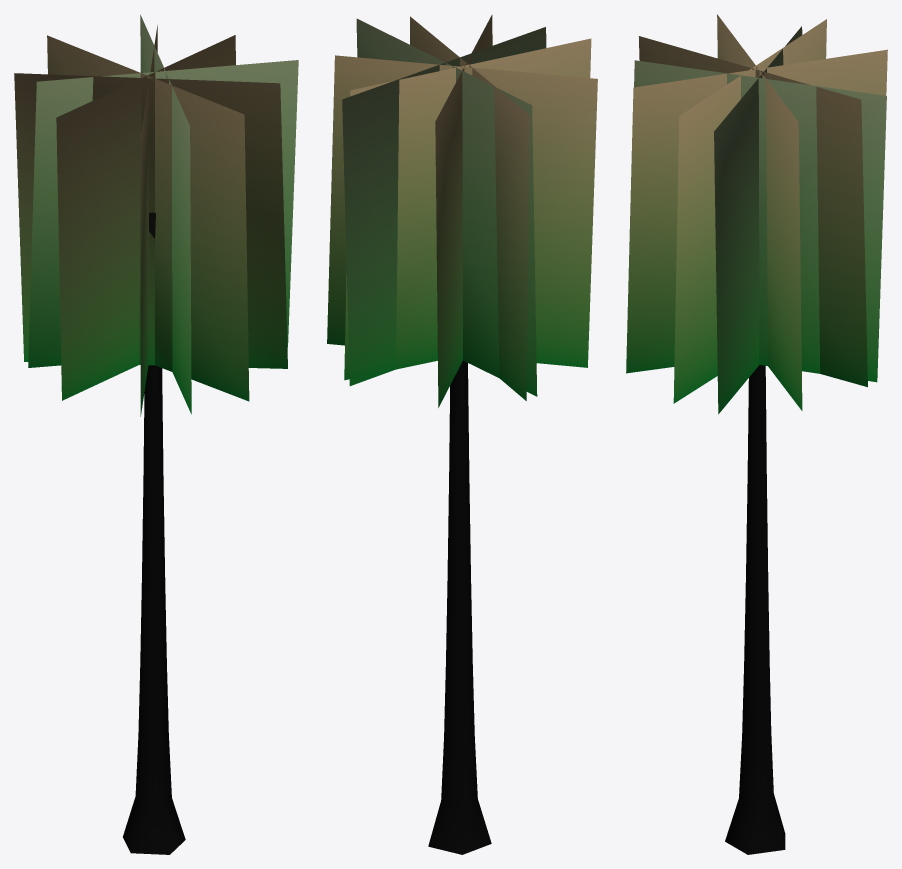
The model's file is Super_Palm_2.fbx.
3 renders of one model, left to right at view 1: azimuth 30°, elevation 25°; view 2: azimuth 150°, elevation 25°; view 3: azimuth 270°, elevation 25°, orthographic.
Parts seen in each view (by area): view 1: Tree_2; view 2: Tree_2; view 3: Tree_2.
Boxes of the visible parts, x1,y1,x2,y2 form: Tree_2: (14, 14, 298, 854); Tree_2: (327, 14, 597, 854); Tree_2: (626, 14, 887, 854).
Bounding box in the file's own units: 522 × 1595 × 490.
